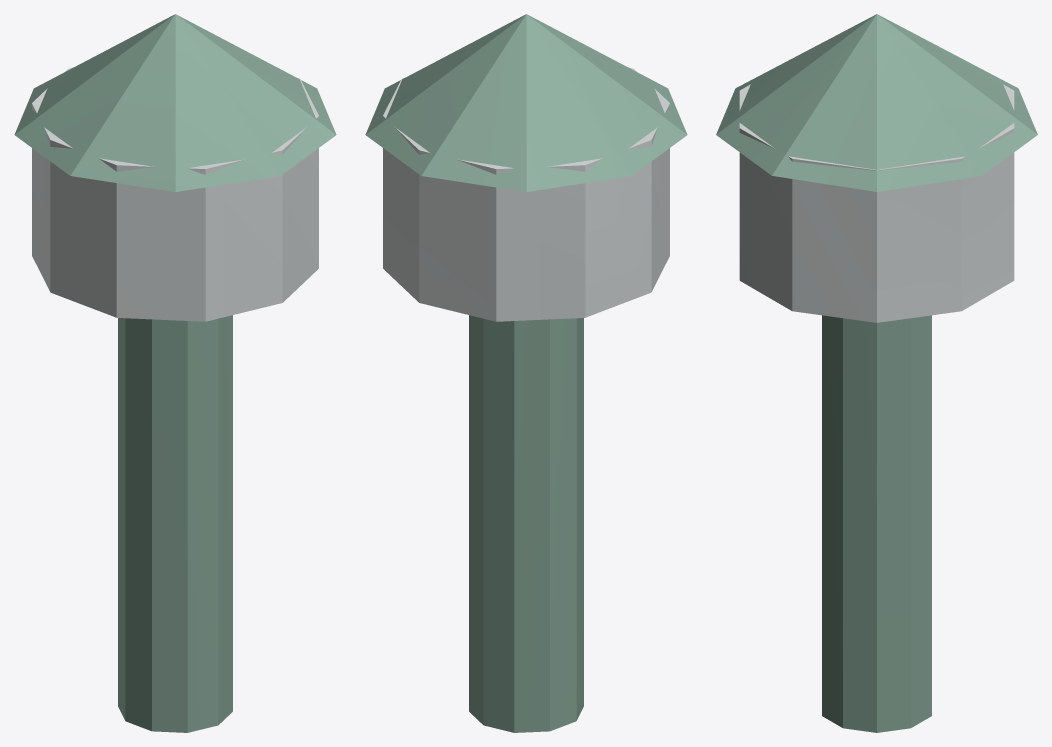
The model's file is lighthouse-01.glb.
The picture shows the model from 3 angles, left to right: view 1: azimuth 30°, elevation 25°; view 2: azimuth 150°, elevation 25°; view 3: azimuth 270°, elevation 25°; orthographic projection.
Parts seen in each view (by area): view 1: world; view 2: world; view 3: world.
Part boxes in pixels (box(x1,y1,x2,y2)): world: box(14, 14, 336, 732); world: box(365, 14, 687, 732); world: box(716, 14, 1037, 732).
Bounding box in the file's own units: 0.6595 × 1.59 × 0.6697.
